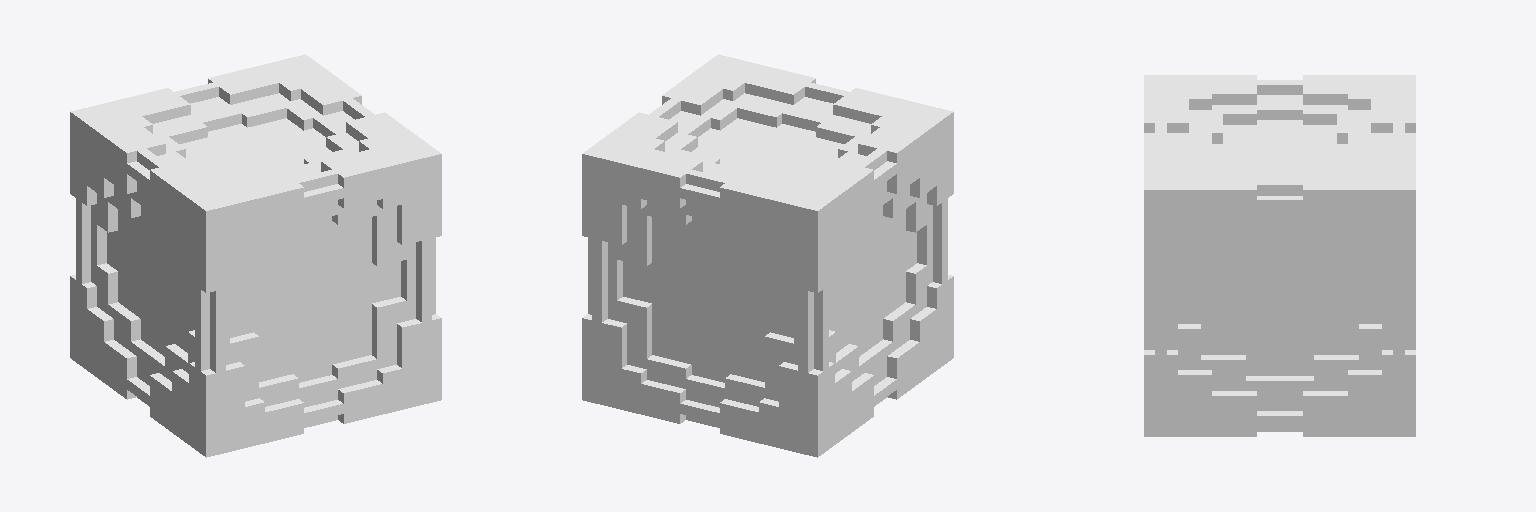
File: wall_shell.obj
The picture shows the model from 3 angles: view 1: azimuth 30°, elevation 25°; view 2: azimuth 150°, elevation 25°; view 3: azimuth 270°, elevation 25°; orthographic projection.
Size of the model in its own units: 24 by 24 by 24.